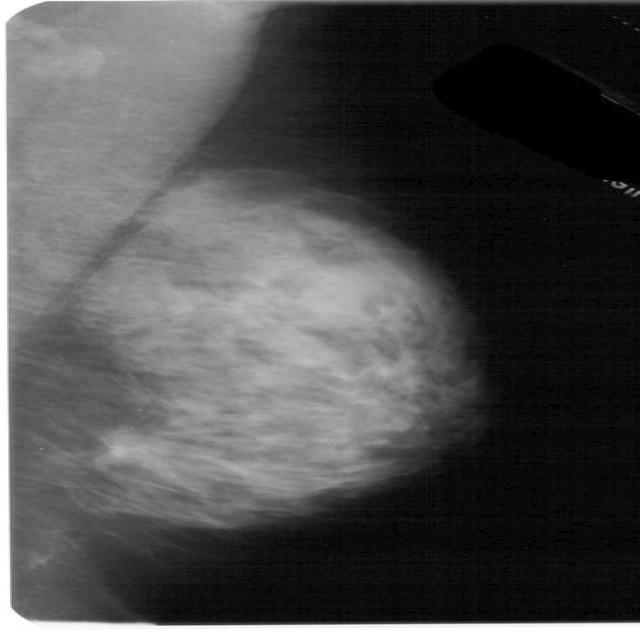tumour: (94, 425, 152, 458)
